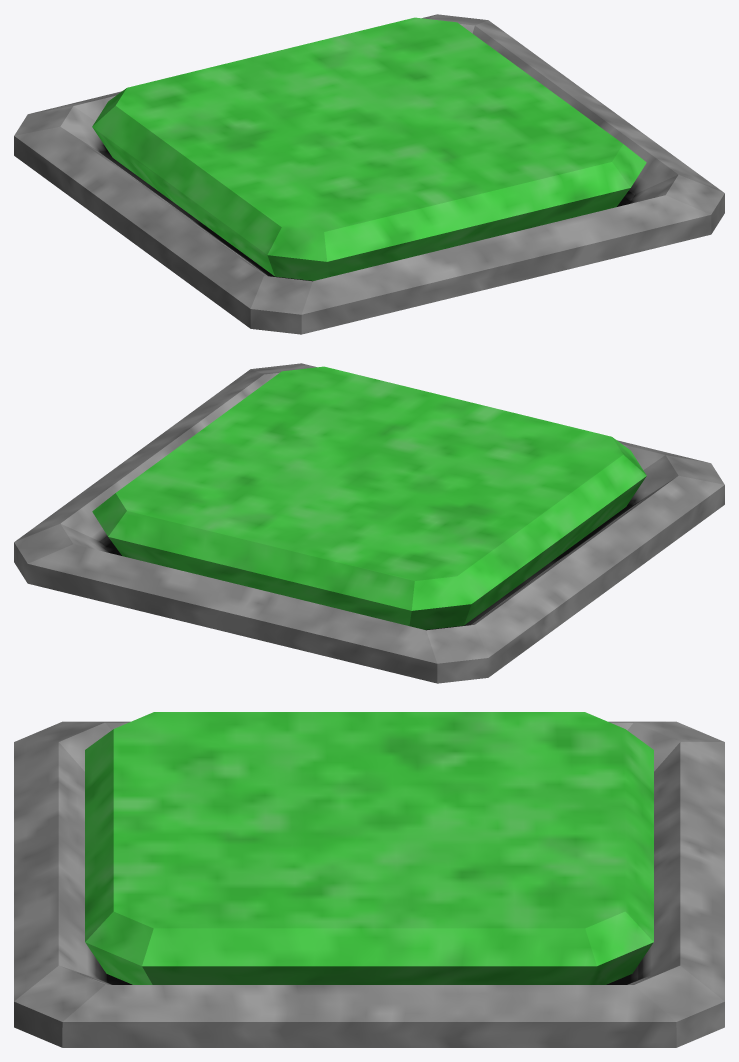
The model's file is square_button.fbx.
The picture shows the model from 3 angles, top to bottom: view 1: azimuth 30°, elevation 25°; view 2: azimuth 150°, elevation 25°; view 3: azimuth 270°, elevation 25°; orthographic projection. The views are drawn at different scales.
Visible parts, largest first — view 1: кнопка квадратная, основа квадратная; view 2: кнопка квадратная, основа квадратная; view 3: кнопка квадратная, основа квадратная.
Boxes of the visible parts, bbox=[...] form: кнопка квадратная: bbox=[92, 17, 646, 280]; основа квадратная: bbox=[14, 14, 724, 334]; кнопка квадратная: bbox=[92, 366, 646, 629]; основа квадратная: bbox=[14, 363, 724, 683]; кнопка квадратная: bbox=[85, 712, 653, 984]; основа квадратная: bbox=[14, 721, 724, 1047].
Size of the model in its own units: 25 by 3 by 25.
